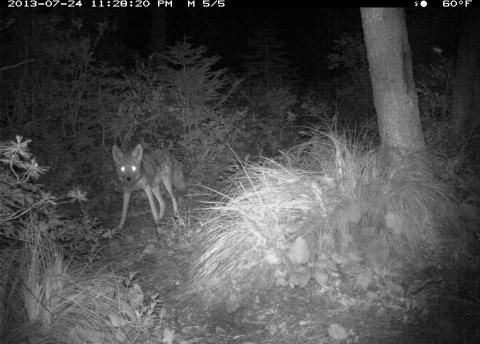coyote: (100, 127, 197, 229)
